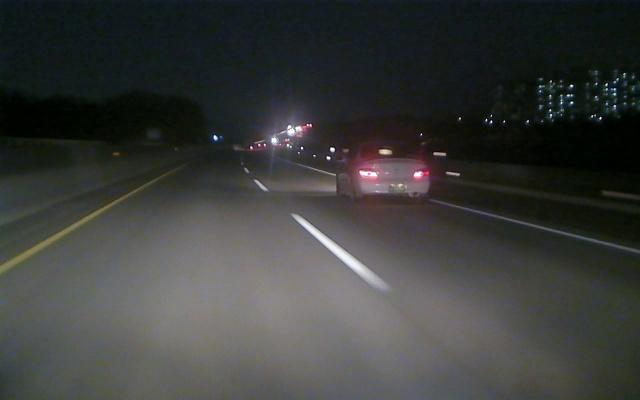lane: (0, 173, 170, 278), (247, 169, 392, 292), (433, 200, 638, 255)
